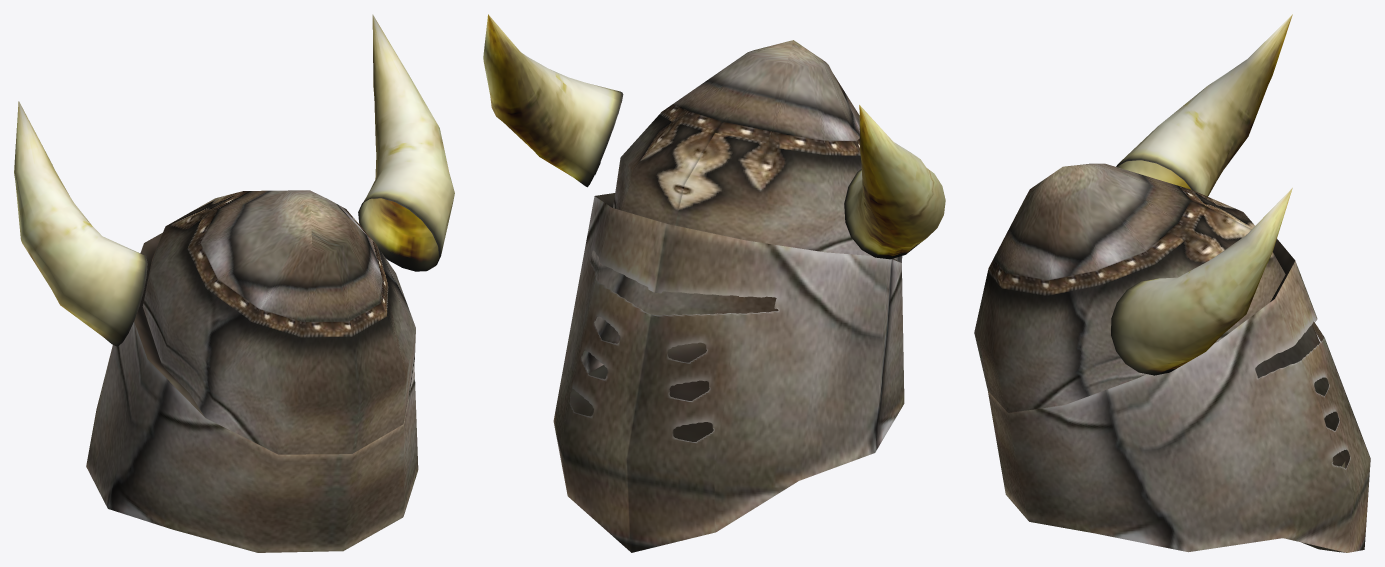
File: helmet02.FBX
3 renders of one model, left to right at view 1: azimuth 30°, elevation 25°; view 2: azimuth 150°, elevation 25°; view 3: azimuth 270°, elevation 25°, orthographic. The views are drawn at different scales.
Visible parts, largest first — view 1: helmet02; view 2: helmet02; view 3: helmet02.
Part boxes in pixels (x1=…): helmet02: x1=14, y1=14, x2=454, y2=552; helmet02: x1=483, y1=14, x2=945, y2=552; helmet02: x1=974, y1=14, x2=1370, y2=552.
Bounding box in the file's own units: 0.4519 × 0.3722 × 0.4652.
